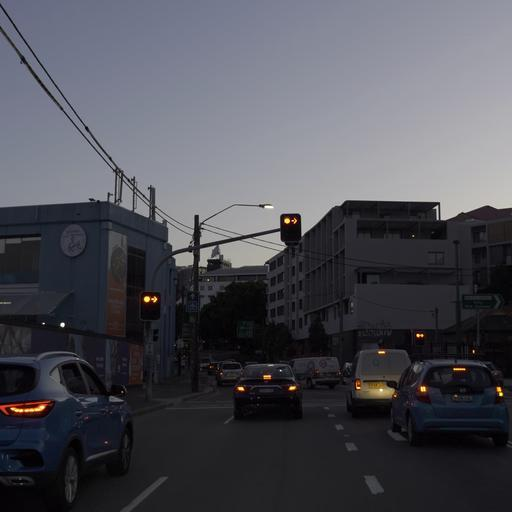Street light: (189, 201, 274, 391)
